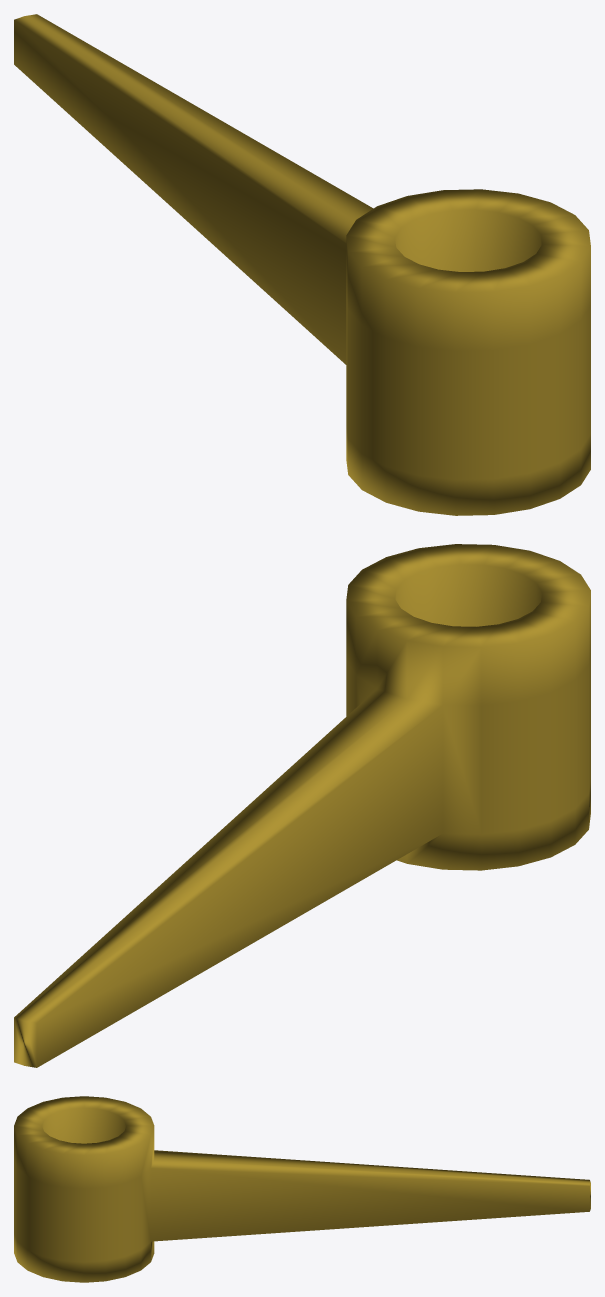
Rendered from Tools_Pipe.fbx.
3 renders of one model, top to bottom at view 1: azimuth 30°, elevation 25°; view 2: azimuth 150°, elevation 25°; view 3: azimuth 270°, elevation 25°, orthographic. The views are drawn at different scales.
Parts seen in each view (by area): view 1: Pipe; view 2: Pipe; view 3: Pipe.
Part boxes in pixels (box(x1,y1,x2,y2)): Pipe: box(14, 14, 590, 515); Pipe: box(14, 544, 590, 1067); Pipe: box(14, 1096, 590, 1282).
Size of the model in its own units: 0.04 by 0.04 by 0.1643.
